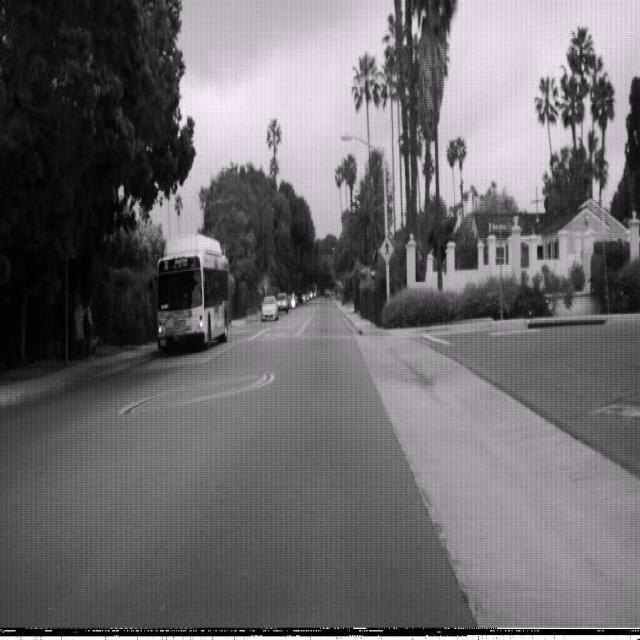pedestrianCrossing: (379, 234, 394, 264)
